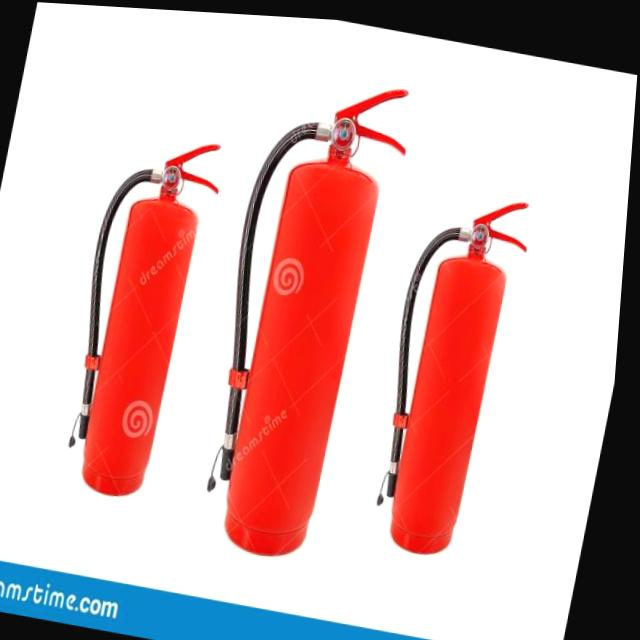FireExtinguisher: (185, 55, 423, 566), (52, 117, 235, 507), (360, 171, 541, 562)
